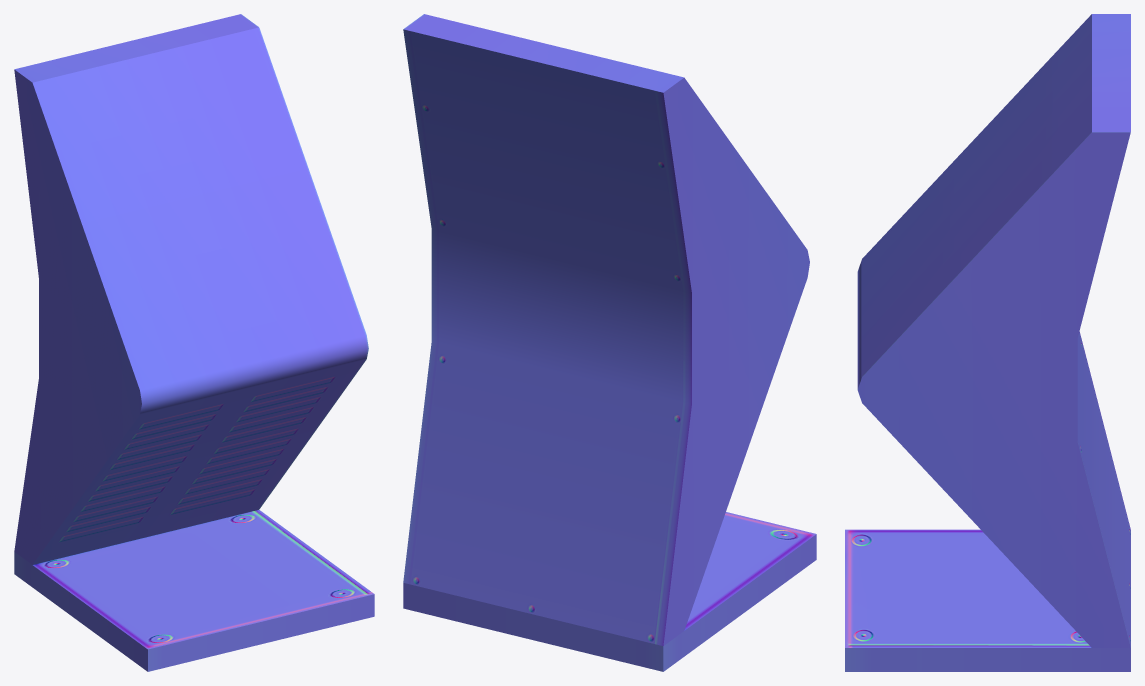
File: Stand_TV.fbx
3 renders of one model, left to right at view 1: azimuth 30°, elevation 25°; view 2: azimuth 150°, elevation 25°; view 3: azimuth 270°, elevation 25°, orthographic. The views are drawn at different scales.
Visible parts, largest first — view 1: Stand; view 2: Stand; view 3: Stand.
Part boxes in pixels (left/top/right/bottom): Stand: left=14, top=14, right=374, bottom=671; Stand: left=403, top=14, right=816, bottom=671; Stand: left=845, top=14, right=1130, bottom=671.
Size of the model in its own units: 47.89 by 102 by 48.87.
